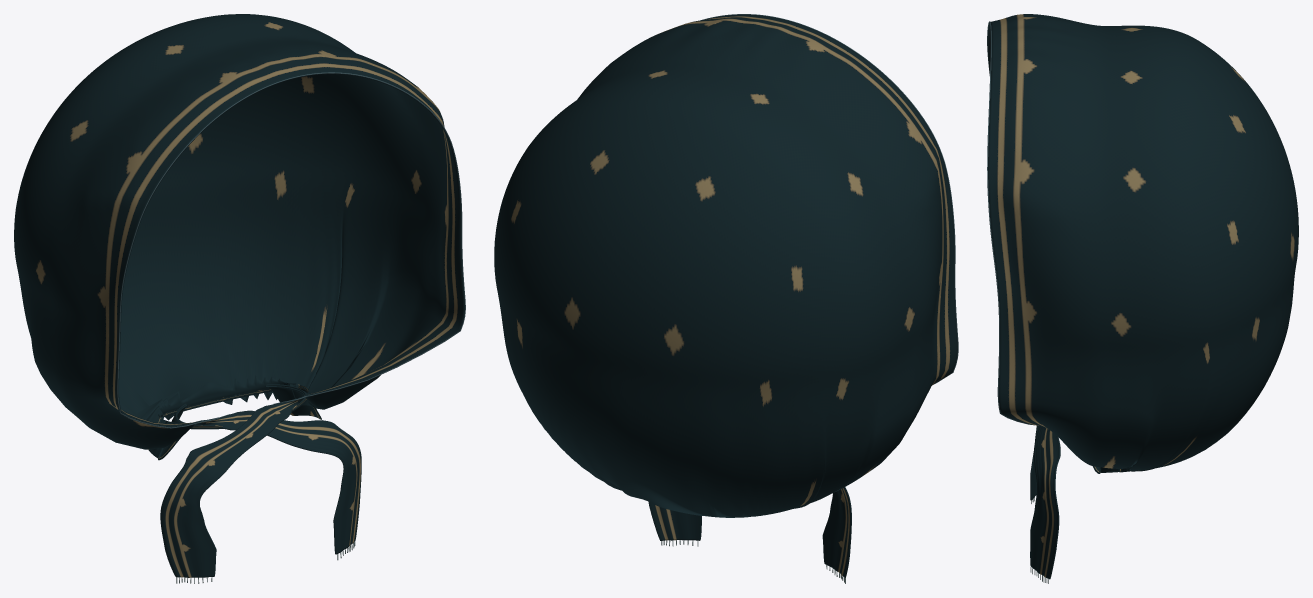
File: Masculine-curly-top-buttonup-pashmina250-headgear.glb
3 views of the same model, side by side, from view 1: azimuth 30°, elevation 25°; view 2: azimuth 150°, elevation 25°; view 3: azimuth 270°, elevation 25° (orthographic). The views are drawn at different scales.
Visible parts, largest first — view 1: 226 headgear / Headwear / continuous woven pashmina239, 226 headgear / Headwear / face edge239; view 2: 226 headgear / Headwear / continuous woven pashmina239, 226 headgear / Headwear / face edge239; view 3: 226 headgear / Headwear / continuous woven pashmina239, 226 headgear / Headwear / face edge239.
Boxes of the visible parts, <box> form: 226 headgear / Headwear / continuous woven pashmina239: <box>14,14,464,577</box>; 226 headgear / Headwear / face edge239: <box>117,72,465,428</box>; 226 headgear / Headwear / continuous woven pashmina239: <box>494,14,957,577</box>; 226 headgear / Headwear / face edge239: <box>701,14,958,384</box>; 226 headgear / Headwear / continuous woven pashmina239: <box>987,14,1298,579</box>; 226 headgear / Headwear / face edge239: <box>987,21,1033,425</box>.
Size of the model in its own units: 1.07 by 1.41 by 0.7828.
3 materials, 1 textured.
